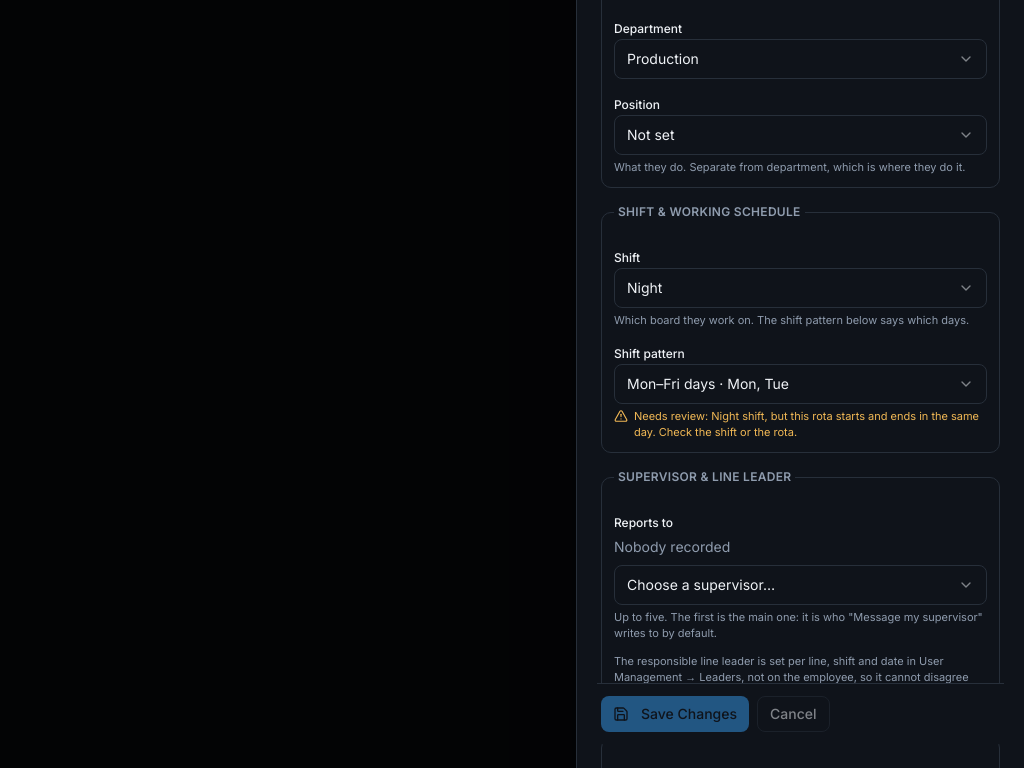
Test: Edit Employee, as one form › flags a Night shift on a daytime rota as needing review, and clears it when they agree
The width and height of the screenshot is (1024, 768).
(page scrolled)
Expected: the message shows "Needs review: Night shift", [614,408,987,440]
Press ArrowDown in the dropdown labelled "Mon–Fri days · Mon, Tue", box [614,364,987,404]
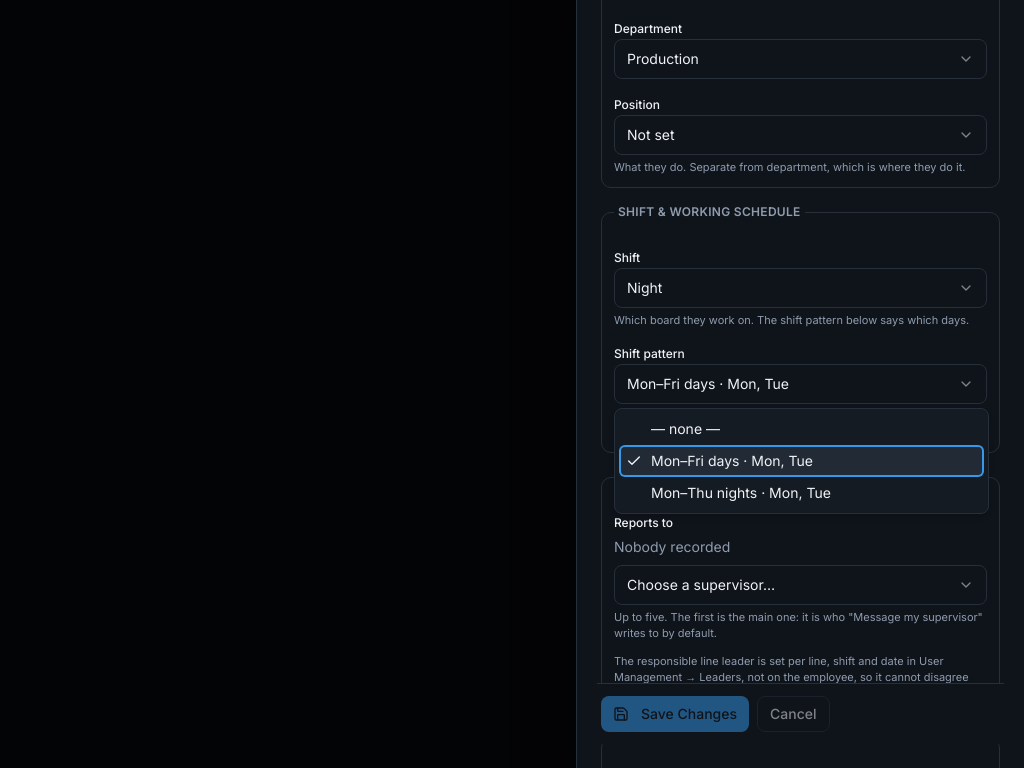
Click the option "Mon–Thu nights · Mon, Tue".
click(741, 492)  # box [651,484,831,501]
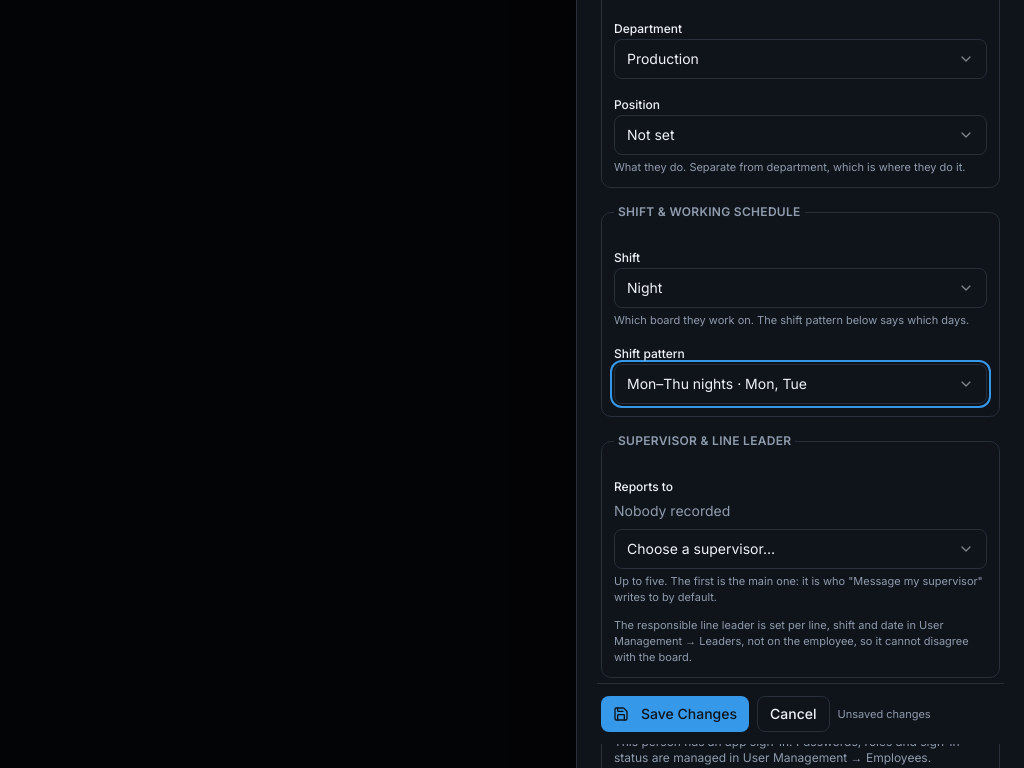
Expected: the text "Needs review" is gone
